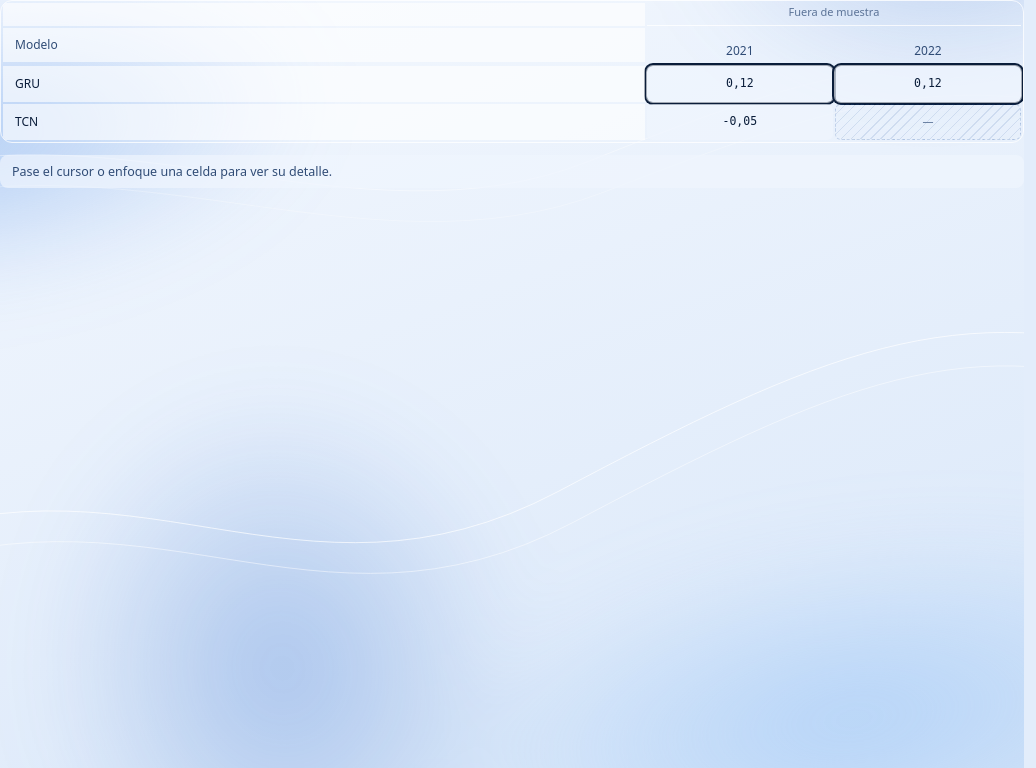
mapa de calor accesible › es una tabla con encabezados, valores escritos y detalle al enfocar
Focus the button named "GRU 2021: detalle" at (740, 84), box left=647, top=66, right=833, bottom=102
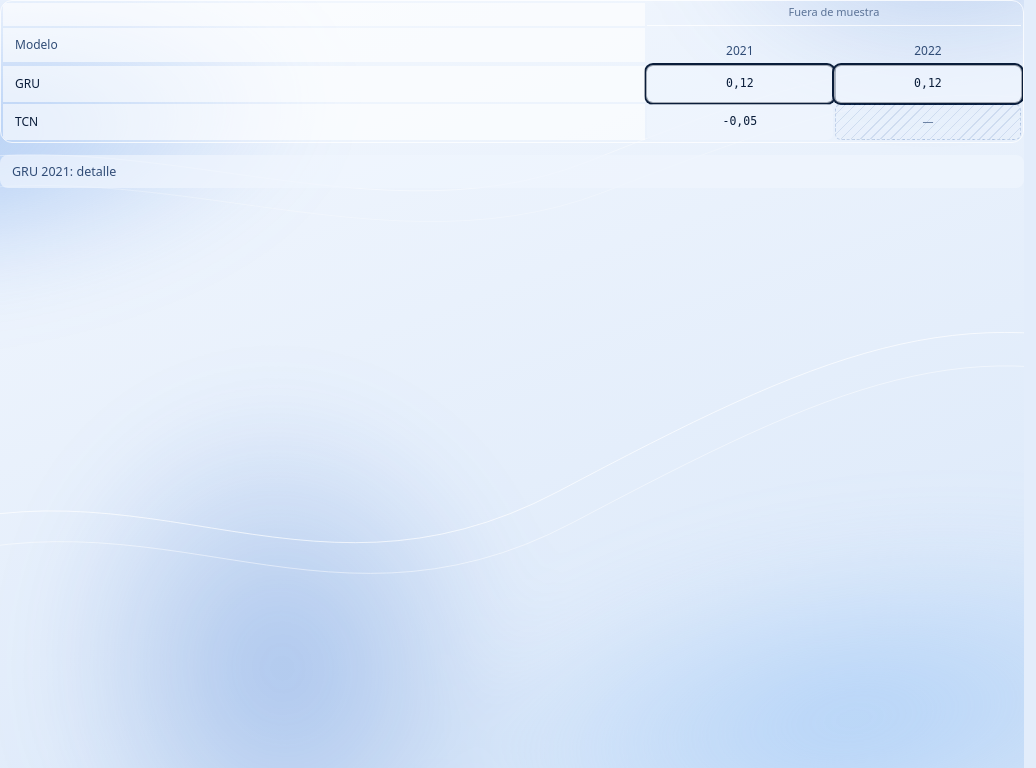
Now the text "GRU 2021: detalle" is shown, box left=0, top=154, right=1024, bottom=188
